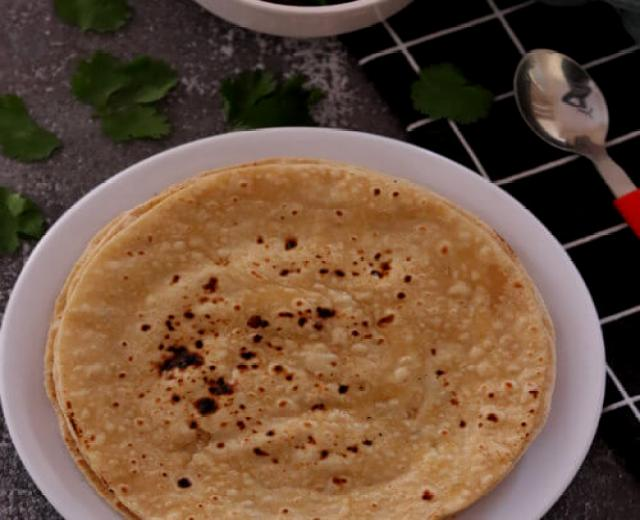chapati: (49, 161, 553, 519)
